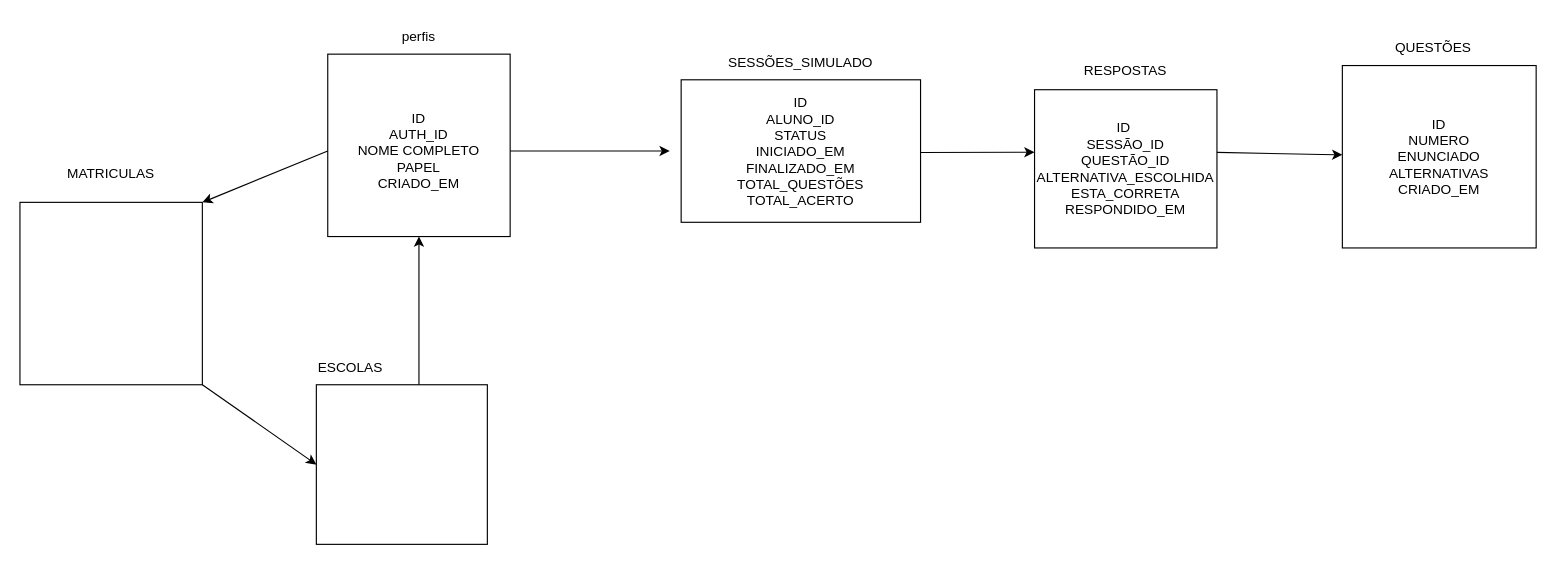
Image size: 1556x564. Some labels were removed from this diagram. The shapes that lost their labels are listed below. From the top down, each one's centre as x and y in pixels, then its label:
At [110,293]: "ID ALUNO_ID ESCOLA_ID MATRICULADO_EM".
At [401,464]: "ID NOME CNPJ ENDEREÇO ADMIN_ID CRIADO_EM".
